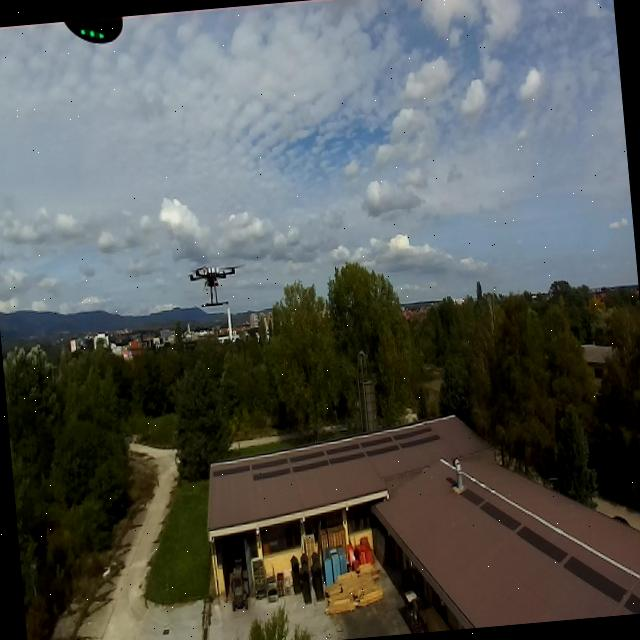drone: (178, 236, 256, 326)
